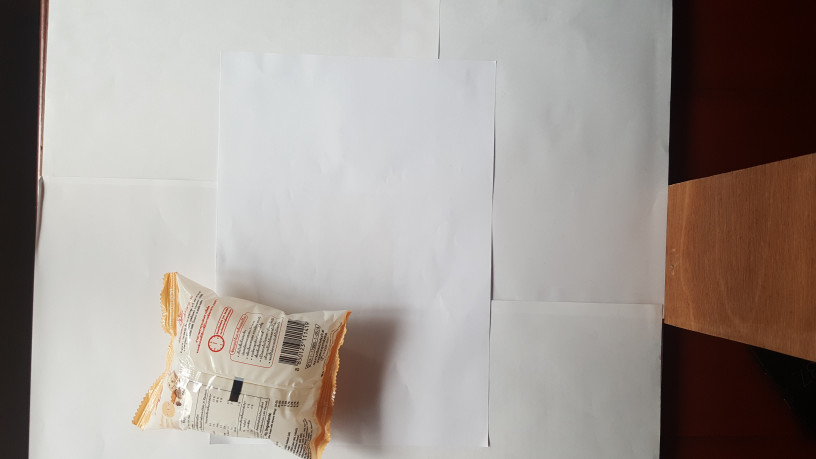farmhouse-sweetsandwich-almond: (120, 272, 358, 459)
